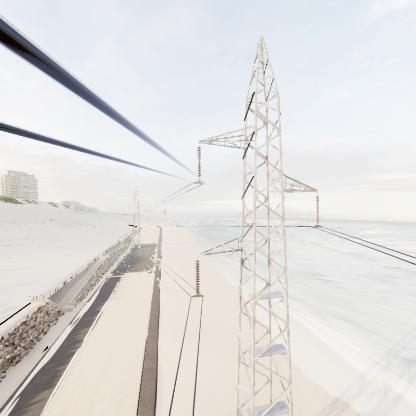tower: (195, 33, 323, 416)
